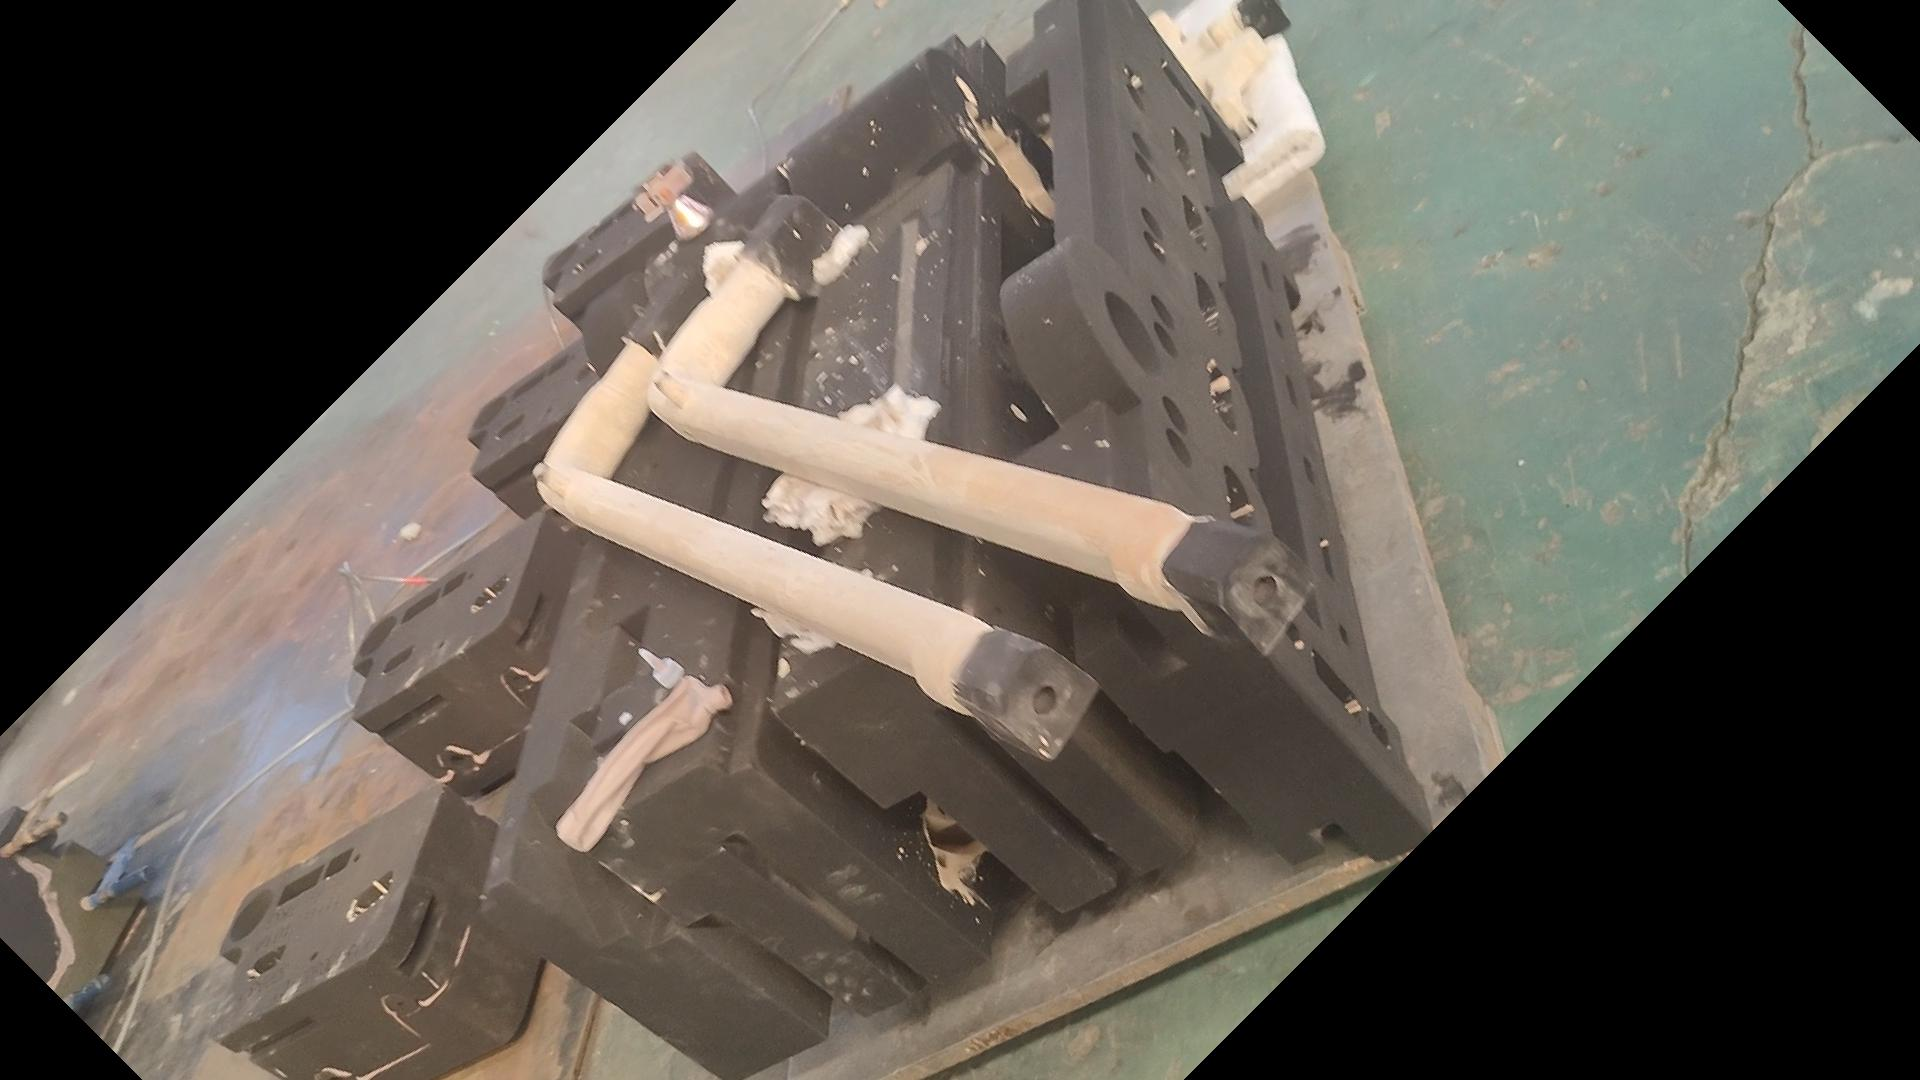pouring hole: (1102, 290, 1163, 375), (229, 889, 274, 942), (357, 616, 397, 657), (471, 396, 506, 431), (546, 244, 578, 276)
